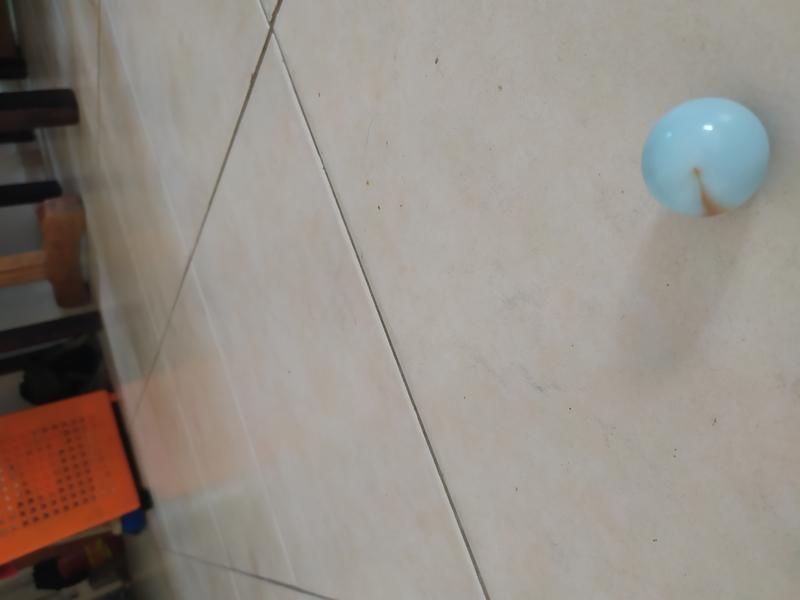Warning: (636, 92, 774, 222)
